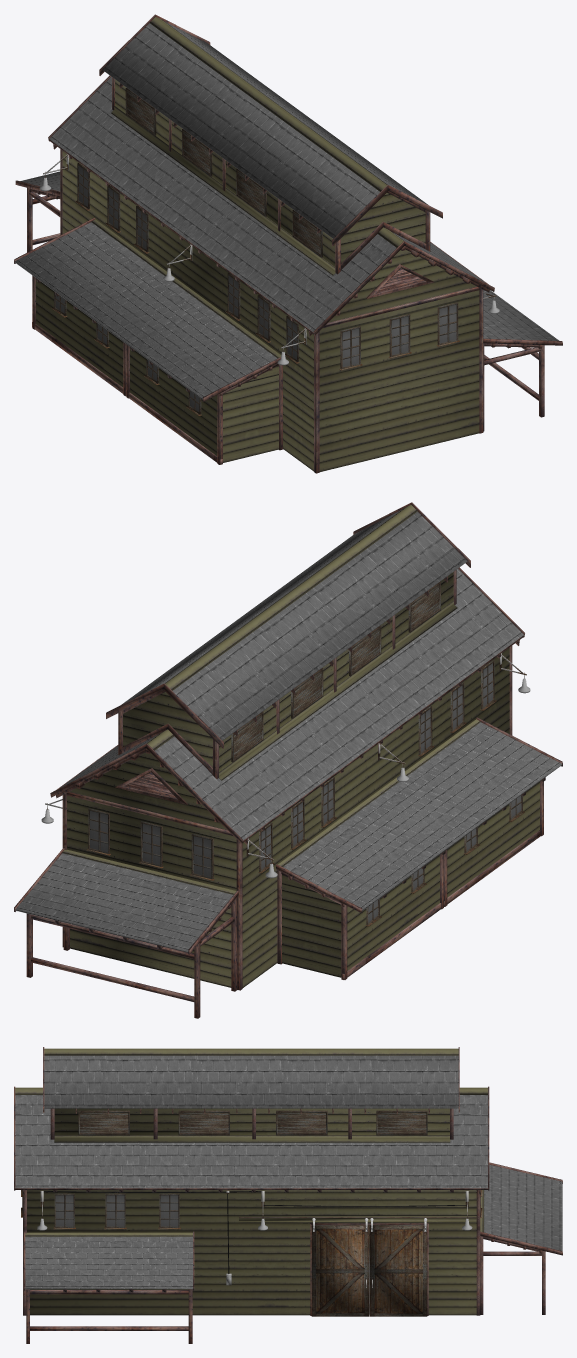
The model's file is wooden_storage_hangar.glb.
3 views of the same model, one above another, from view 1: azimuth 30°, elevation 25°; view 2: azimuth 150°, elevation 25°; view 3: azimuth 270°, elevation 25° (orthographic). The views are drawn at different scales.
Visible parts, largest first — view 1: desirefx_me_3, desirefx_me_1, desirefx_me_2; view 2: desirefx_me_1, desirefx_me_3, desirefx_me_2; view 3: desirefx_me_1, desirefx_me_3, desirefx_me_2, desirefx_me_4, desirefx_me_6.
Part boxes in pixels (box(x1,y1,x2,y2)): desirefx_me_3: box(14, 14, 562, 473); desirefx_me_1: box(15, 22, 559, 412); desirefx_me_2: box(43, 17, 496, 358); desirefx_me_1: box(15, 510, 561, 952); desirefx_me_3: box(14, 502, 562, 1018); desirefx_me_2: box(45, 505, 526, 894); desirefx_me_1: box(15, 1055, 562, 1314); desirefx_me_3: box(14, 1047, 562, 1343); desirefx_me_2: box(15, 1048, 487, 1236); desirefx_me_4: box(311, 1225, 369, 1316); desirefx_me_6: box(369, 1225, 427, 1316).
Bounding box in the file's own units: 6.15 × 4.68 × 10.
7 materials, 5 textured.
